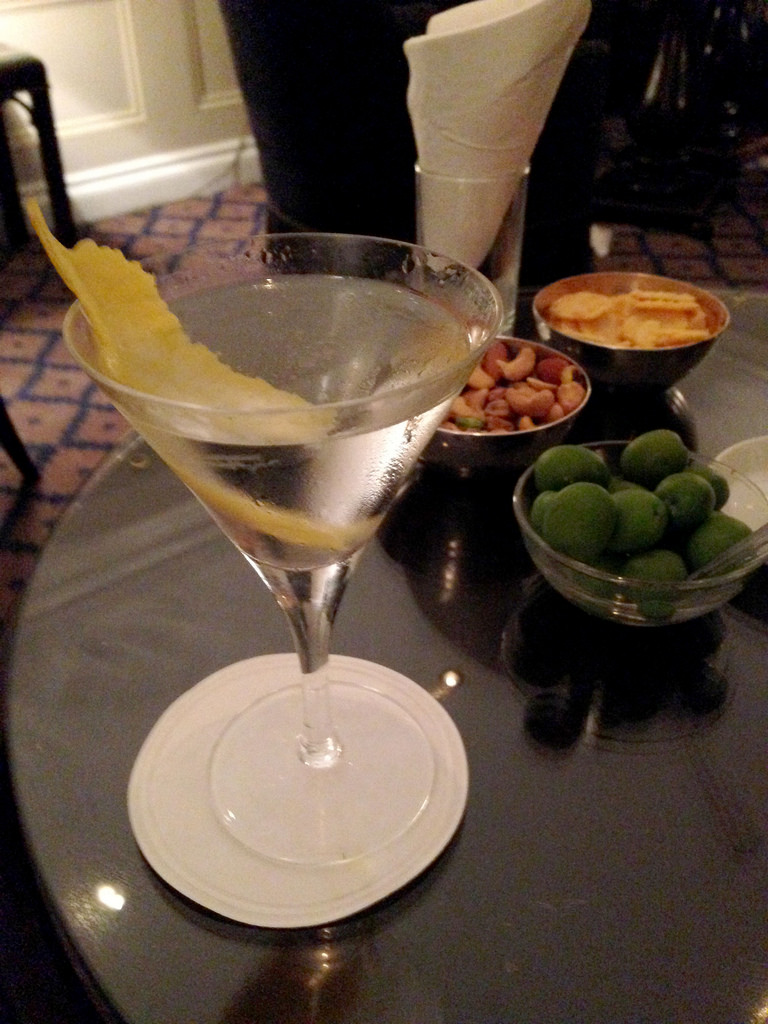glass of water: (58, 232, 505, 861)
